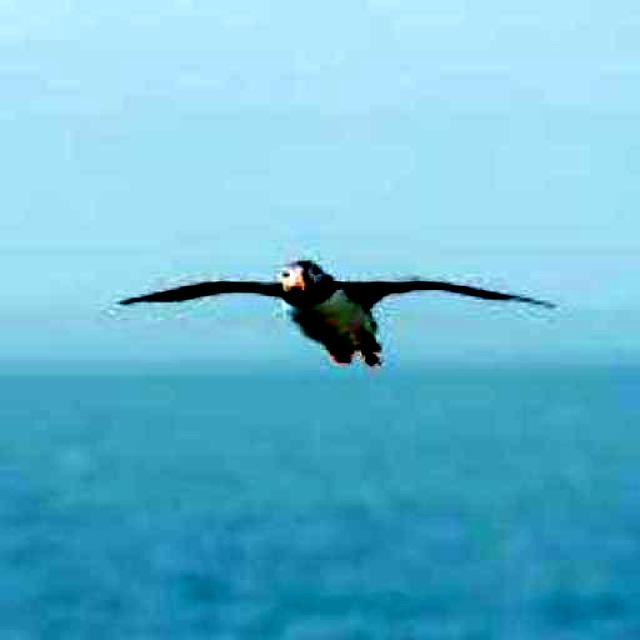airplane: (119, 261, 558, 368)
